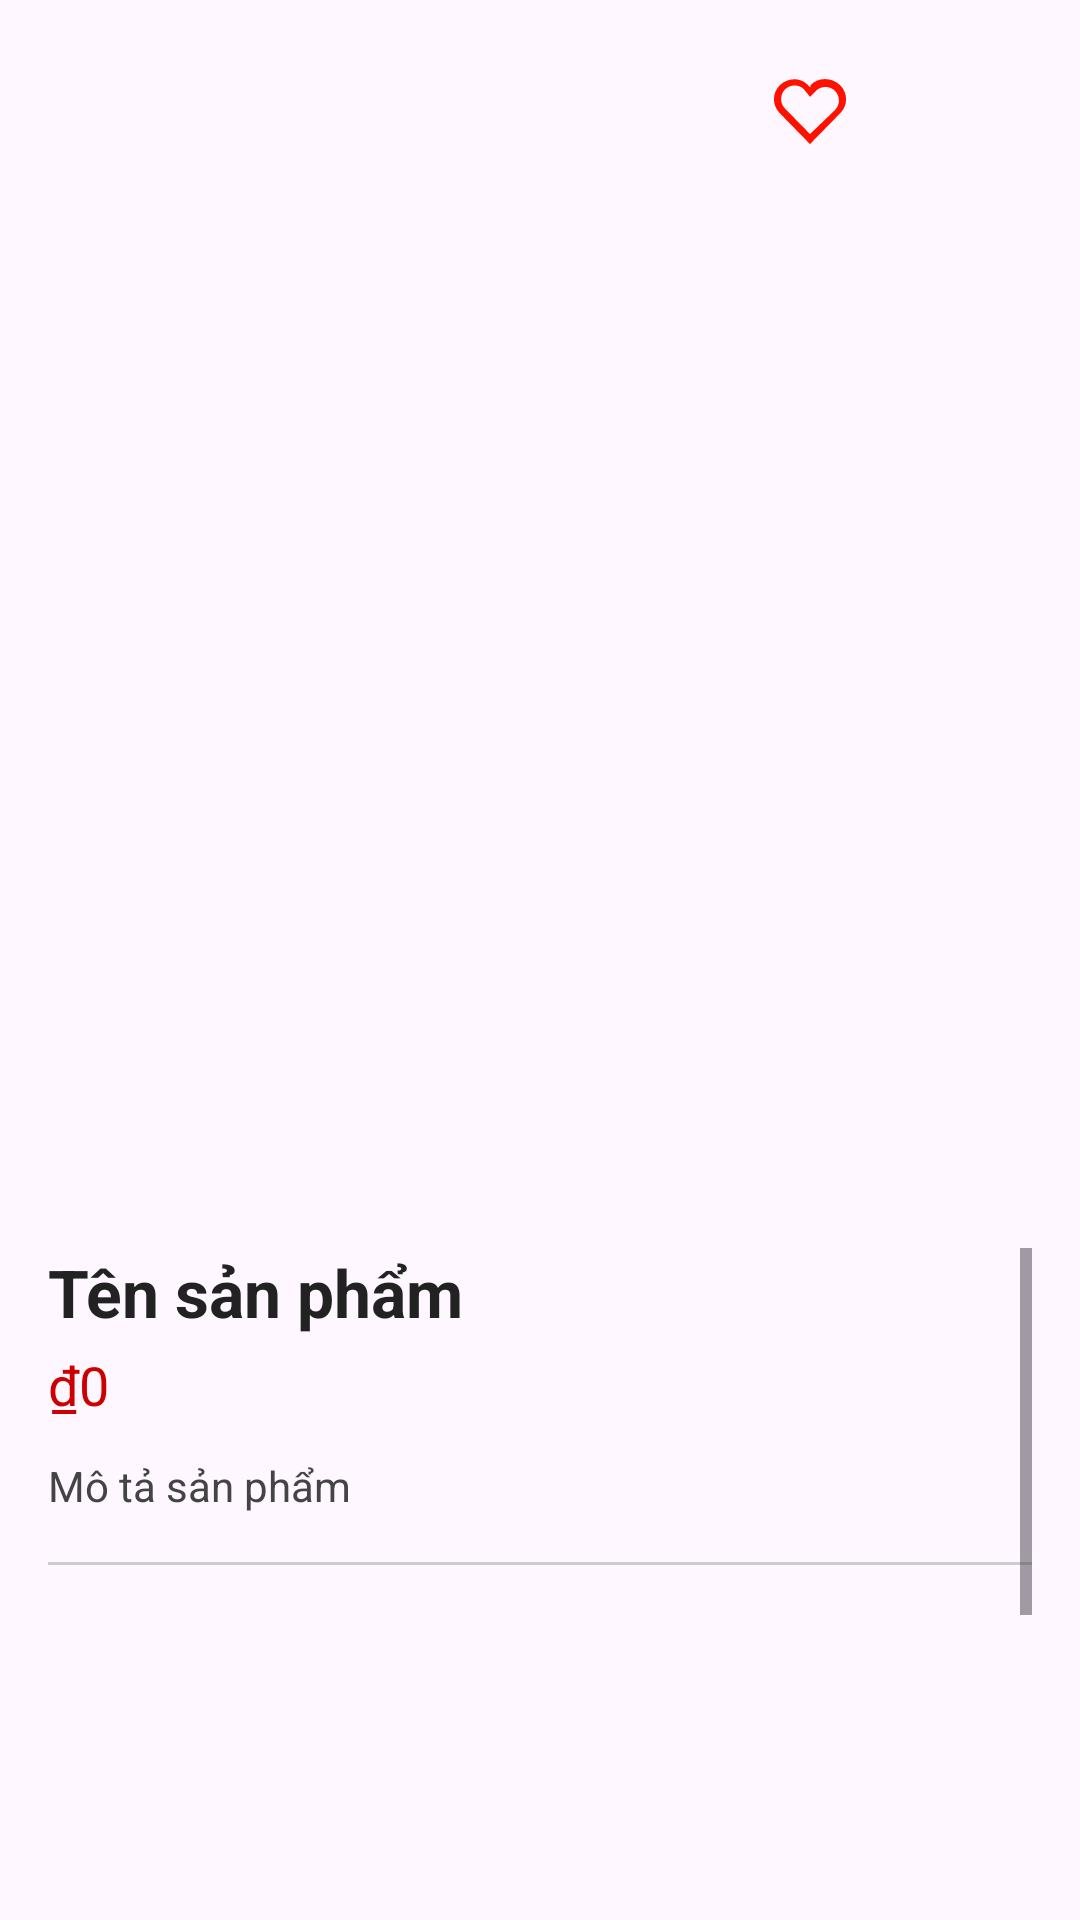

Locate icon controls on the screen. Image size 1080px x 1920px, boxes as (x1, y1, x2, y2).
Yêu thích: (774, 79, 846, 144)
